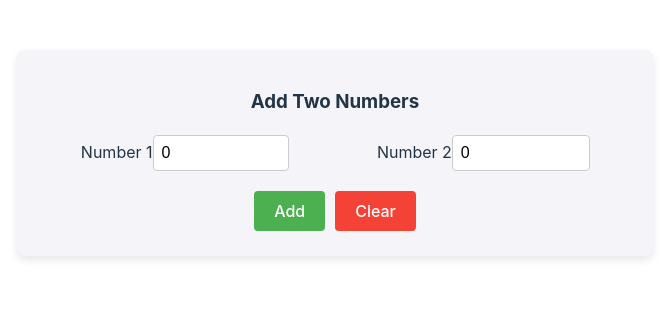
AddNumbers Component › clears the input fields and result
The width and height of the screenshot is (671, 312).
// Set values for the input fields
Replace the text in the number field labelled "Number 1" with "8" at (221, 153), box [152,135,289,171]
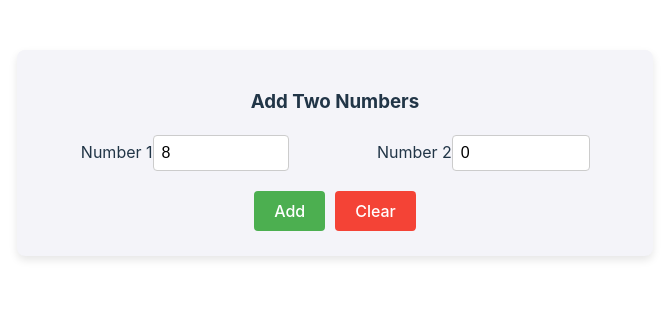
Replace the text in the number field labelled "Number 2" with "7" at (521, 153), box [452,135,590,171]
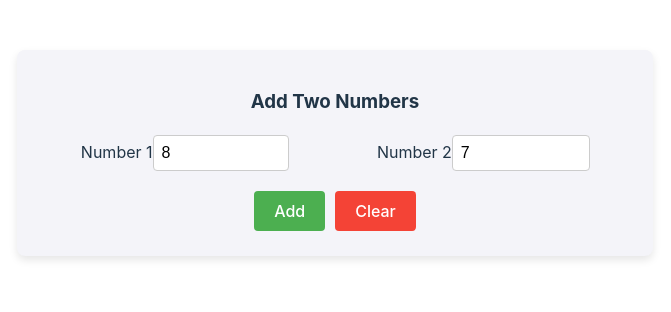
// Click the "Add" button
Click the button "Add".
click(290, 211)  # box [254,191,325,231]
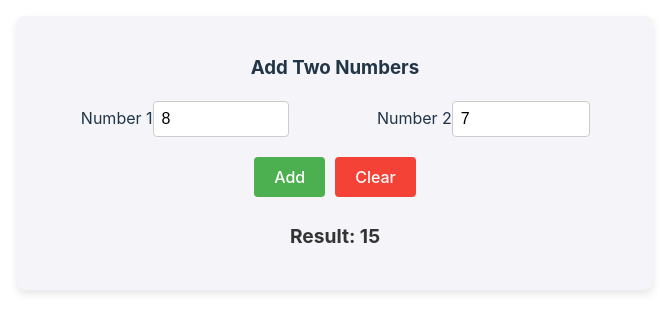
Now the text "Result: 15" is shown, box [290,224,380,248]
// Click the "Clear" button
Click the button "Clear".
click(376, 177)  # box [335,157,416,197]
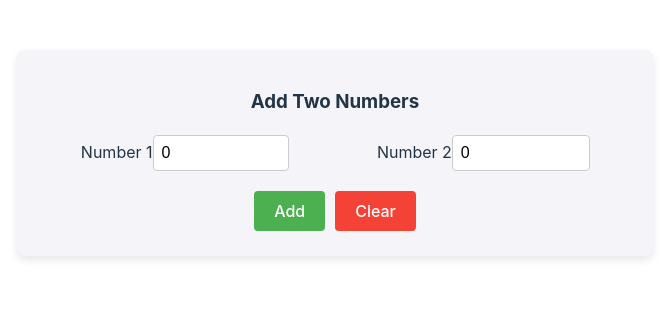
Now the number field labelled "Number 1" holds "0", box [152,135,289,171]
Now the number field labelled "Number 2" holds "0", box [452,135,590,171]
Now the text "Result: 15" is gone
